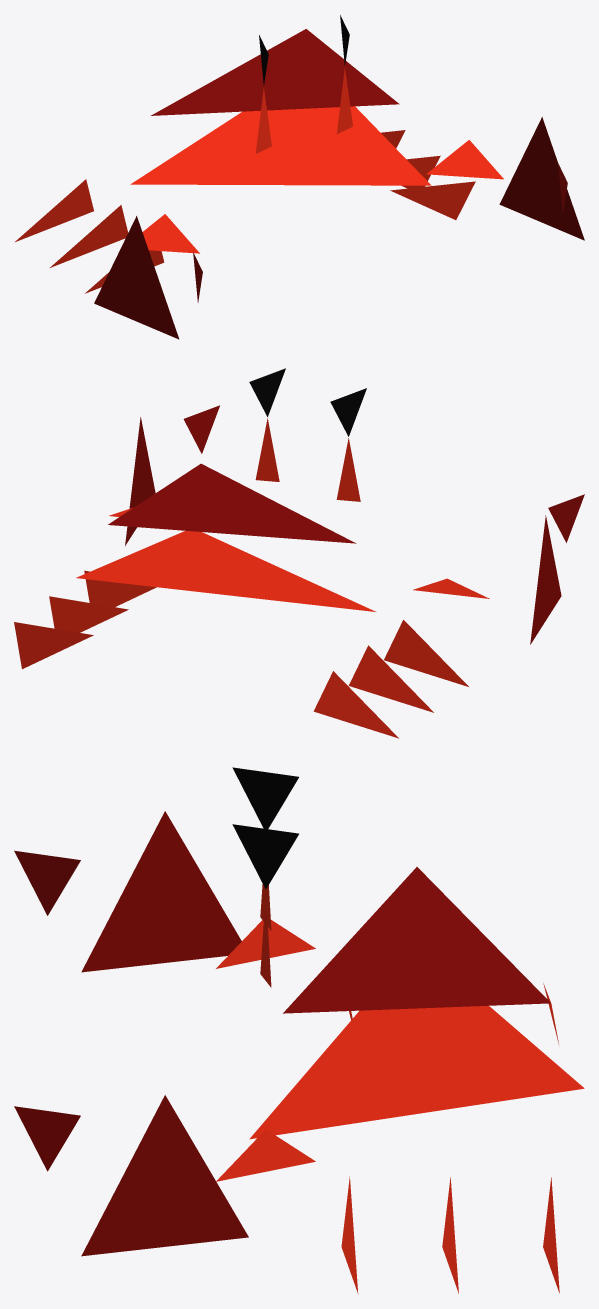
The model's file is reef_crab_blockbench.three-web-toon.lod25.glb.
3 renders of one model, top to bottom at view 1: azimuth 30°, elevation 25°; view 2: azimuth 150°, elevation 25°; view 3: azimuth 270°, elevation 25°, orthographic. The views are drawn at different scales.
Visible parts, largest first — view 1: body_lod, shell_top_lod, claw_-1_lod, claw_1_lod, leg_1_0_lod, arm_1_lod, leg_-1_2_lod, leg_-1_1_lod, arm_-1_lod, eyestalk_1_lod, eyestalk_-1_lod, leg_1_1_lod; view 2: body_lod, shell_top_lod, leg_-1_1_lod, leg_-1_2_lod, leg_-1_0_lod, leg_1_2_lod, claw_-1_lod, leg_1_1_lod, claw_1_lod, leg_1_0_lod, eye_1_lod, eye_-1_lod (+5 smaller); view 3: body_lod, shell_top_lod, claw_1_lod, claw_-1_lod, arm_1_lod, eye_1_lod, pincer_-1_lod, pincer_1_lod, eye_-1_lod, arm_-1_lod, leg_1_0_lod, leg_1_1_lod (+1 smaller).
Part boxes in pixels (x1,y1,x2,y2): body_lod: (130, 106, 431, 185); shell_top_lod: (151, 29, 399, 115); claw_-1_lod: (94, 216, 179, 339); claw_1_lod: (499, 117, 584, 240); leg_1_0_lod: (390, 181, 475, 219); arm_1_lod: (426, 140, 503, 179); leg_-1_2_lod: (15, 179, 93, 241); leg_-1_1_lod: (50, 205, 128, 267); arm_-1_lod: (142, 214, 199, 253); eyestalk_1_lod: (337, 68, 352, 133); eyestalk_-1_lod: (255, 87, 271, 153); leg_1_1_lod: (401, 155, 440, 188); body_lod: (76, 530, 375, 611); shell_top_lod: (108, 463, 356, 543); leg_-1_1_lod: (348, 645, 433, 712); leg_-1_2_lod: (313, 671, 398, 738); leg_-1_0_lod: (384, 620, 468, 686); leg_1_2_lod: (14, 622, 93, 669); claw_-1_lod: (530, 515, 561, 644); leg_1_1_lod: (49, 596, 128, 632); claw_1_lod: (125, 417, 155, 545); leg_1_0_lod: (84, 570, 156, 606); eye_1_lod: (249, 368, 285, 416); eye_-1_lod: (330, 388, 366, 436); body_lod: (249, 1005, 584, 1139); shell_top_lod: (283, 867, 550, 1013); claw_1_lod: (81, 1095, 248, 1256); claw_-1_lod: (81, 811, 241, 972); arm_1_lod: (216, 1129, 315, 1181); eye_1_lod: (232, 824, 298, 889); pincer_-1_lod: (14, 850, 80, 915); pincer_1_lod: (14, 1106, 80, 1171); eye_-1_lod: (232, 767, 298, 828); arm_-1_lod: (216, 920, 315, 968); leg_1_0_lod: (341, 1176, 358, 1293); leg_1_1_lod: (442, 1177, 458, 1293).
Bounding box in the file's own units: 1.33 × 0.7498 × 1.06.
